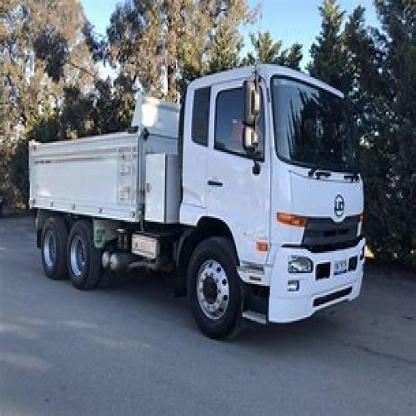dump_truck: (32, 57, 368, 346)
